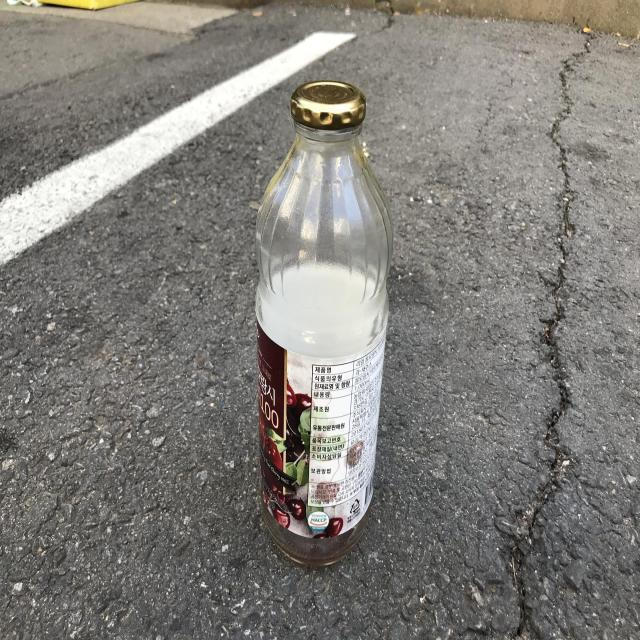glass: (256, 80, 393, 566)
